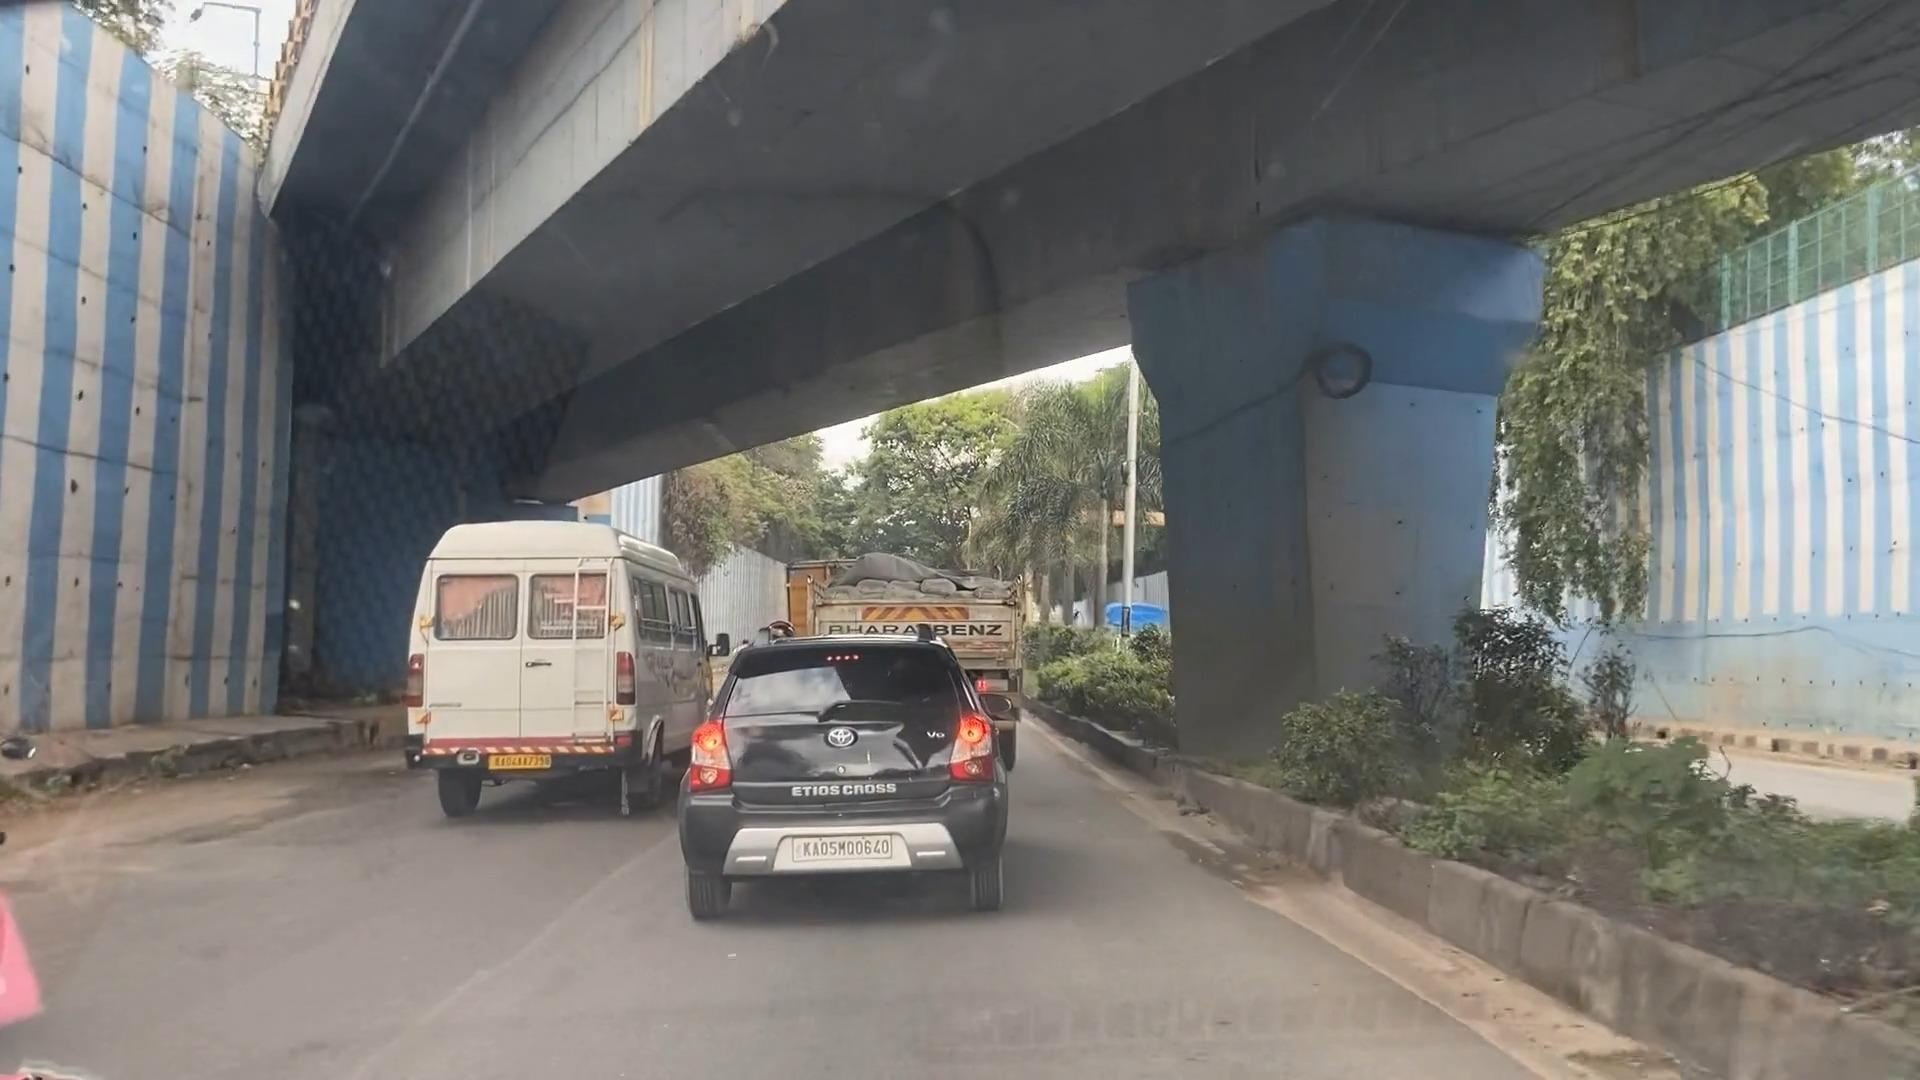HMV: (405, 518, 702, 828), (781, 556, 1038, 782)
LMV: (673, 624, 1018, 930)
